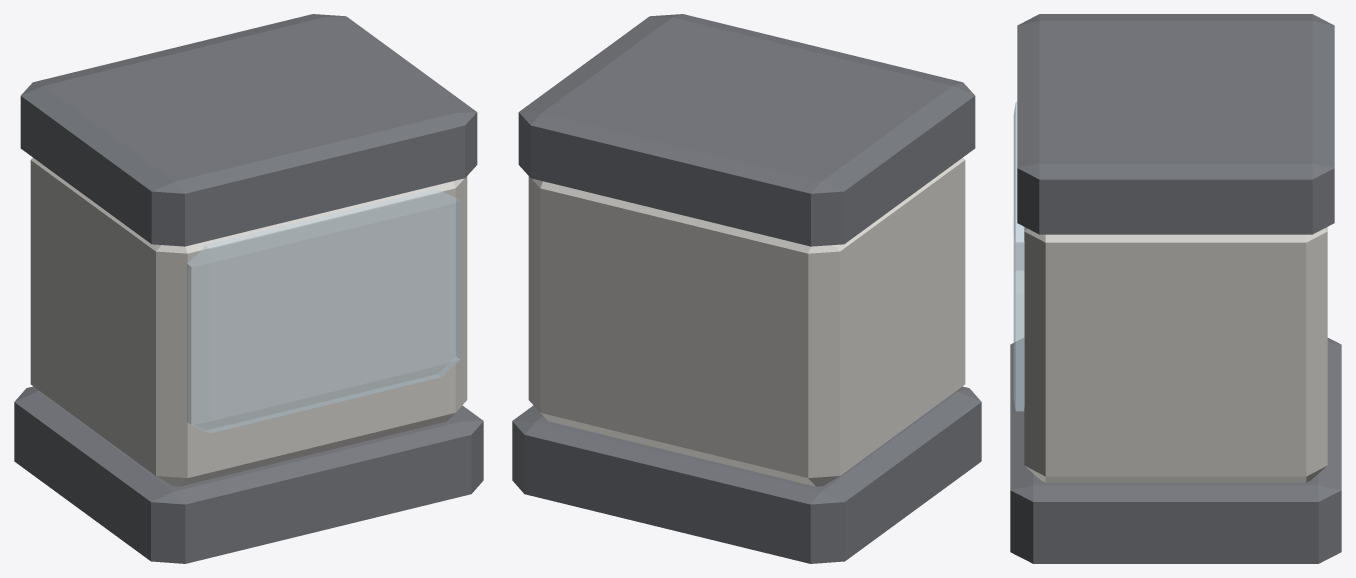
The model's file is b10_sidewalk_coffee_kiosk.glb.
3 renders of one model, left to right at view 1: azimuth 30°, elevation 25°; view 2: azimuth 150°, elevation 25°; view 3: azimuth 270°, elevation 25°, orthographic. The views are drawn at different scales.
Parts seen in each view (by area): view 1: b10_sidewalk_coffee_kiosk; view 2: b10_sidewalk_coffee_kiosk; view 3: b10_sidewalk_coffee_kiosk.
Part boxes in pixels (box(x1,y1,x2,y2)): b10_sidewalk_coffee_kiosk: box(14, 14, 483, 563); b10_sidewalk_coffee_kiosk: box(512, 14, 981, 563); b10_sidewalk_coffee_kiosk: box(1010, 14, 1341, 563).
Size of the model in its own units: 2.18 by 2.36 by 1.8.
